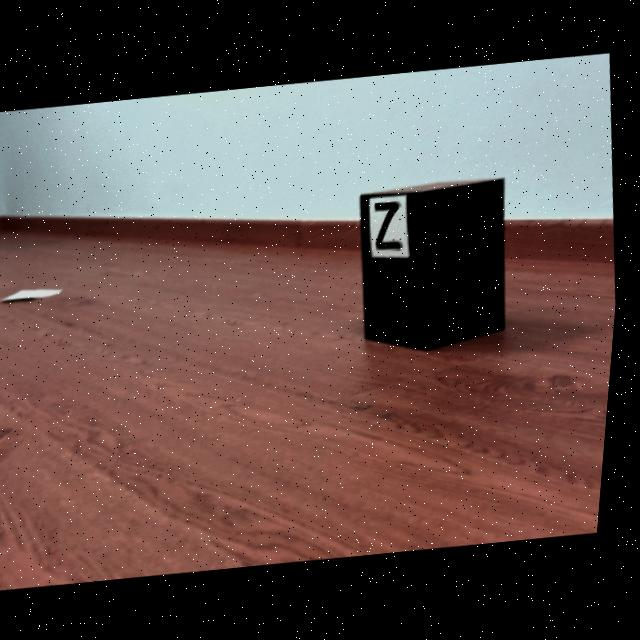Z: (379, 201, 405, 249)
